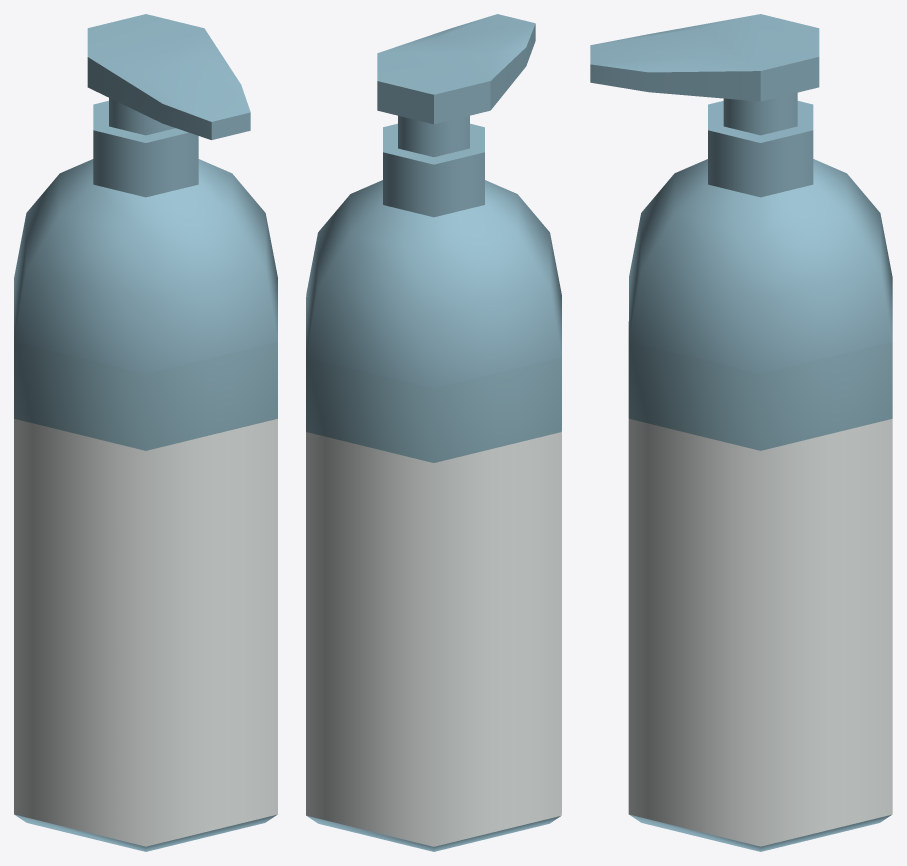
Rendered from SM_Item_Shampoo_01.obj.
3 views of the same model, side by side, from view 1: azimuth 30°, elevation 25°; view 2: azimuth 150°, elevation 25°; view 3: azimuth 270°, elevation 25° (orthographic). The views are drawn at different scales.
Parts seen in each view (by area): view 1: SM_Item_Shampoo_01_Mat_SwatchOverlay_PolygonTown_01_Inst; view 2: SM_Item_Shampoo_01_Mat_SwatchOverlay_PolygonTown_01_Inst; view 3: SM_Item_Shampoo_01_Mat_SwatchOverlay_PolygonTown_01_Inst.
Boxes of the visible parts, x1,y1,x2,y2 form: SM_Item_Shampoo_01_Mat_SwatchOverlay_PolygonTown_01_Inst: (14,14,277,851); SM_Item_Shampoo_01_Mat_SwatchOverlay_PolygonTown_01_Inst: (306,14,561,851); SM_Item_Shampoo_01_Mat_SwatchOverlay_PolygonTown_01_Inst: (590,14,892,851).
Bounding box in the file's own units: 0.1081 × 0.2941 × 0.1073.
Materials: 1 (1 with a texture image).
